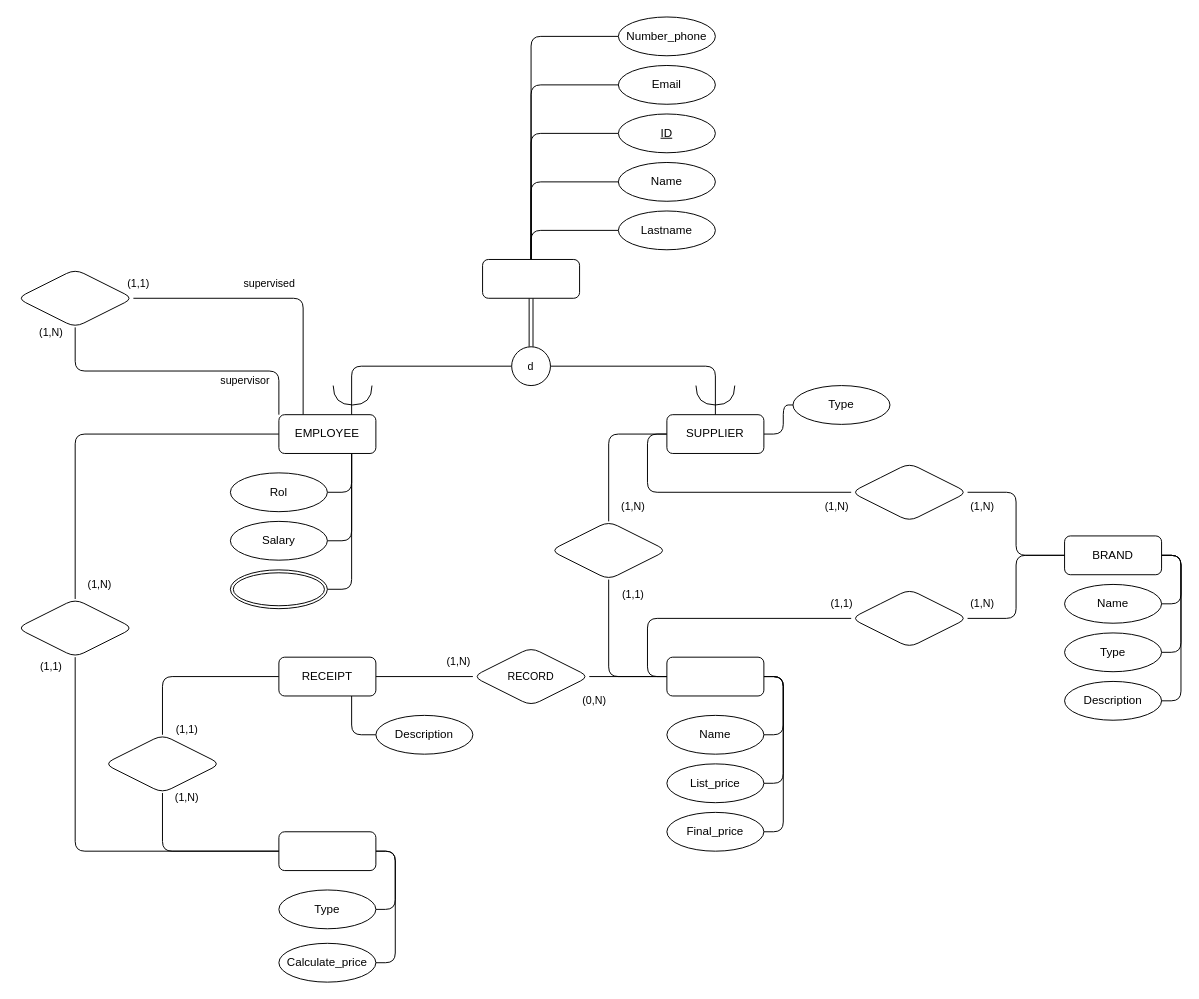
Image size: 1199x999. Some labels were removed from this diagram. Each missing label, with the centre of its shape:
"BELONG" goes at point (909, 617).
"CREATE" goes at point (74, 627).
"LIST_RECEIPT" goes at point (327, 851).
"MANAGE" goes at point (909, 491).
"PERSON" goes at point (531, 278).
"PRODUCT" goes at point (715, 676).
"RECORDED" goes at point (162, 763).
"SUPERVISE" goes at point (74, 297).
"SUPPLY" goes at point (608, 550).
"Working_hours" goes at point (278, 589).
